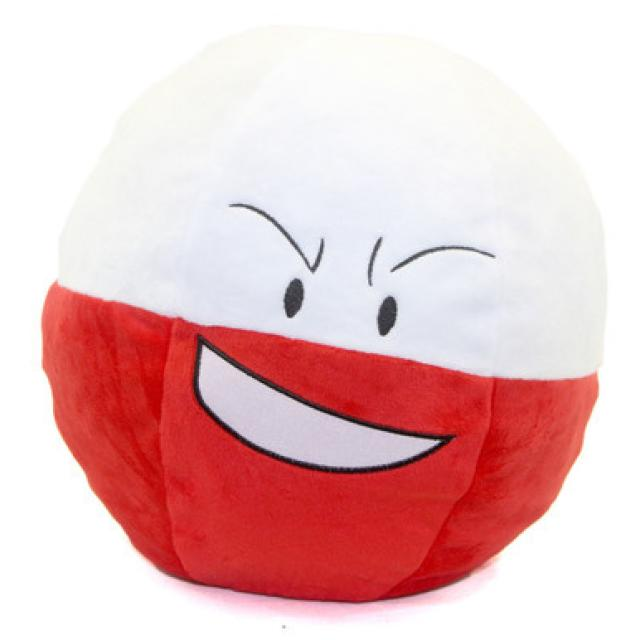Electrode: (32, 17, 614, 598)
